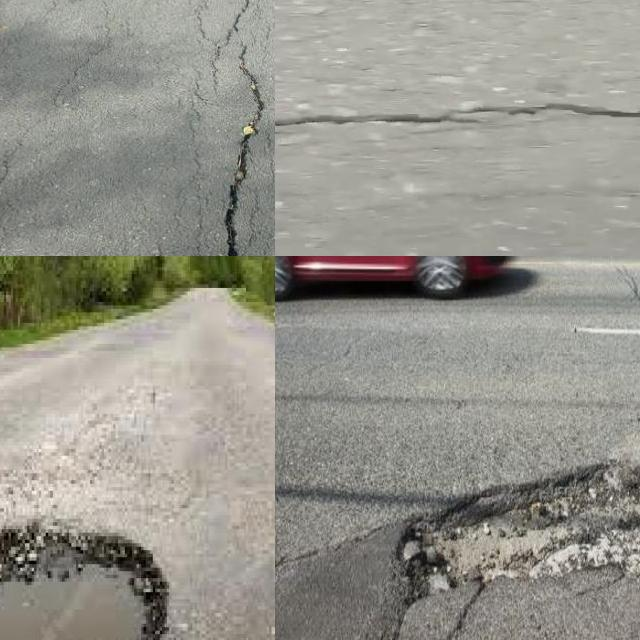Lubang: (394, 456, 640, 592), (0, 526, 174, 640)
Melintang: (275, 87, 640, 147)
Memanjang: (199, 40, 275, 256)
